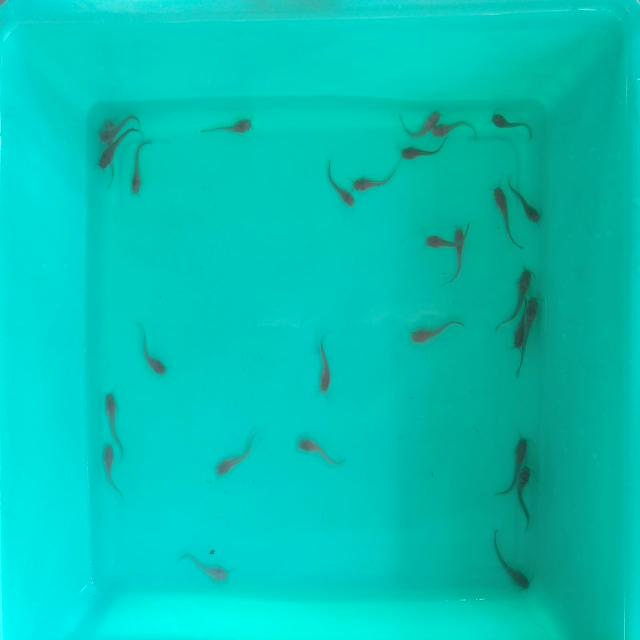lele: (488, 530, 530, 593), (320, 160, 359, 214), (135, 326, 172, 382), (182, 550, 232, 588), (294, 434, 344, 470), (215, 434, 257, 476), (398, 98, 442, 137), (409, 315, 465, 345), (490, 109, 537, 138), (514, 182, 543, 228), (523, 296, 540, 374), (130, 137, 153, 194), (352, 168, 401, 193), (102, 391, 125, 444), (492, 186, 512, 242), (102, 446, 123, 497), (518, 470, 536, 529), (512, 257, 536, 299), (201, 118, 254, 135), (98, 119, 132, 144), (402, 142, 449, 160), (433, 120, 480, 138), (509, 431, 529, 472), (452, 223, 464, 286), (320, 332, 332, 394), (99, 146, 125, 170), (426, 232, 458, 248), (513, 309, 524, 348)
